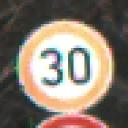speed_limit_30: (14, 16, 120, 117)
